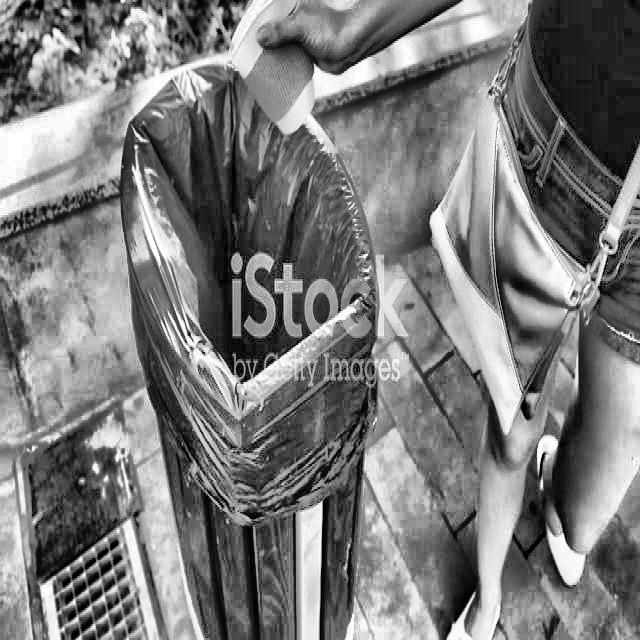Empty: (110, 70, 414, 440)
